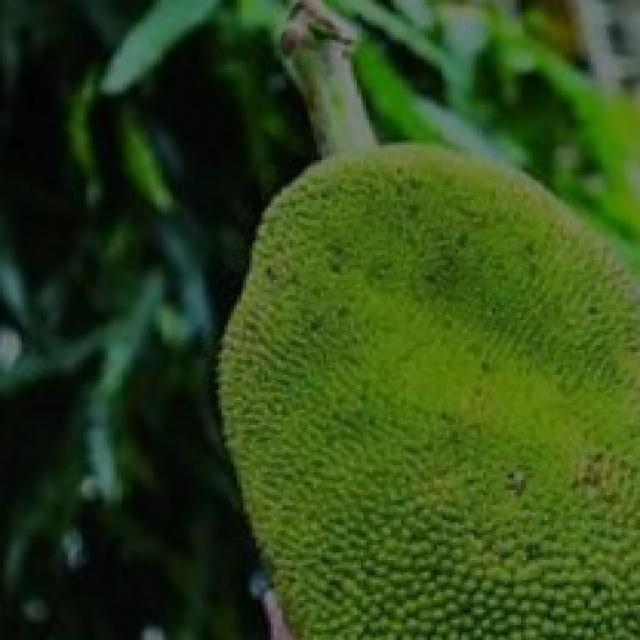Fruit: (194, 247, 634, 640)
